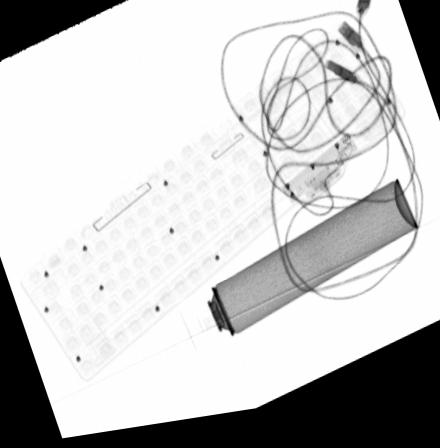Sprayer: (177, 190, 419, 361)
